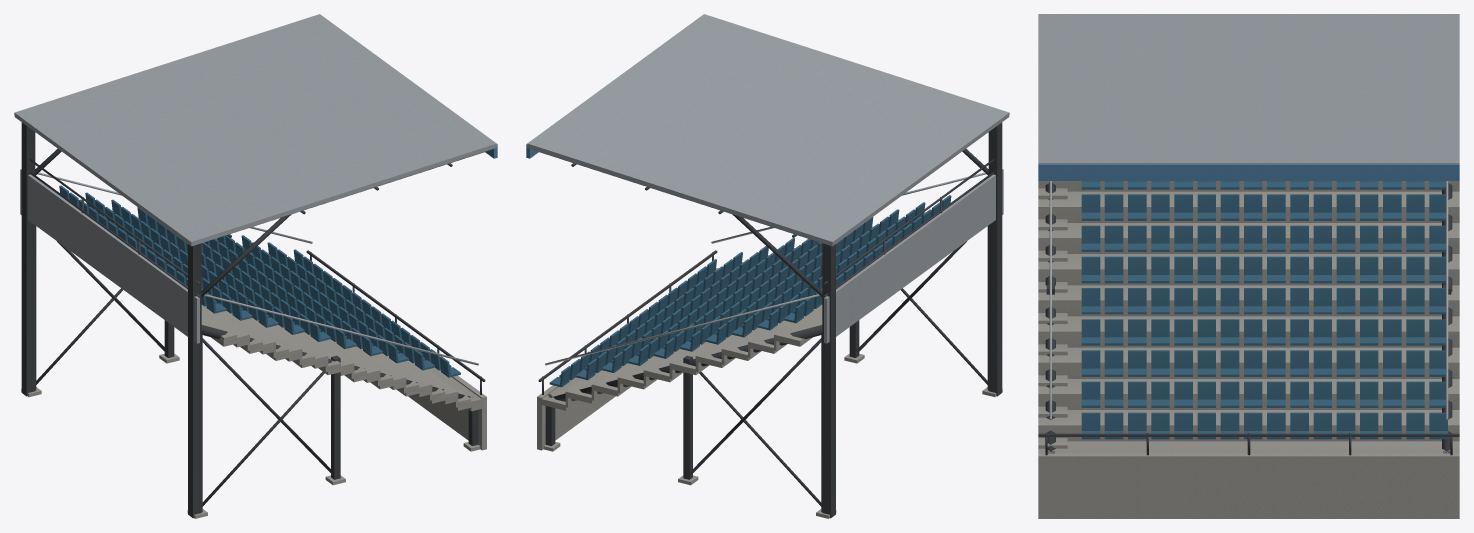
File: grandstand-roof_mobile.glb
The picture shows the model from 3 angles, left to right: view 1: azimuth 30°, elevation 25°; view 2: azimuth 150°, elevation 25°; view 3: azimuth 270°, elevation 25°; orthographic projection. The views are drawn at different scales.
Parts seen in each view (by area): view 1: galvanised, seat, dark-steel, concrete; view 2: galvanised, seat, dark-steel, concrete; view 3: concrete, seat, galvanised, paint-band, dark-steel.
Boxes of the visible parts, left/top/right/bottom form: galvanised: left=14, top=14, right=496, bottom=365; seat: left=59, top=185, right=460, bottom=377; dark-steel: left=21, top=122, right=485, bottom=518; concrete: left=21, top=305, right=486, bottom=518; galvanised: left=527, top=14, right=1009, bottom=365; seat: left=549, top=195, right=951, bottom=387; dark-steel: left=538, top=122, right=1002, bottom=518; concrete: left=537, top=212, right=1002, bottom=518; concrete: left=1038, top=181, right=1459, bottom=518; seat: left=1081, top=181, right=1447, bottom=439; galvanised: left=1038, top=14, right=1459, bottom=420; paint-band: left=1038, top=164, right=1459, bottom=180; dark-steel: left=1038, top=183, right=1459, bottom=455.
Size of the model in its own units: 10 by 9.46 by 10.
5 materials, 4 textured.
